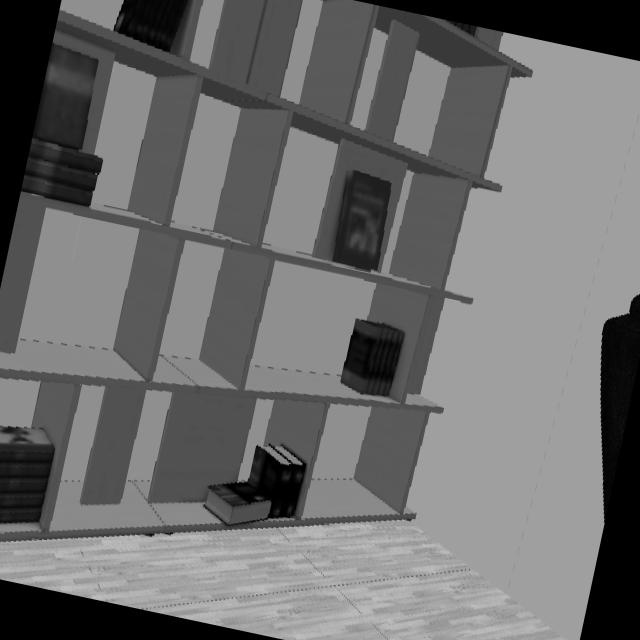book: (20, 42, 103, 207), (202, 444, 305, 526), (331, 169, 392, 273), (0, 425, 54, 527), (339, 318, 405, 398), (113, 0, 191, 52)
bookshelf: (0, 229, 471, 532), (213, 0, 535, 404), (0, 0, 306, 343), (263, 399, 426, 520)
shelf: (245, 364, 381, 408), (403, 394, 445, 414)
